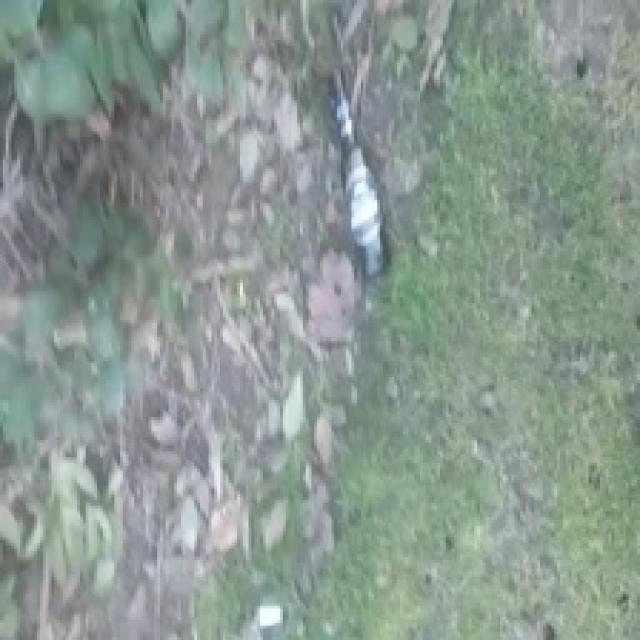Glass: (318, 68, 396, 286)
